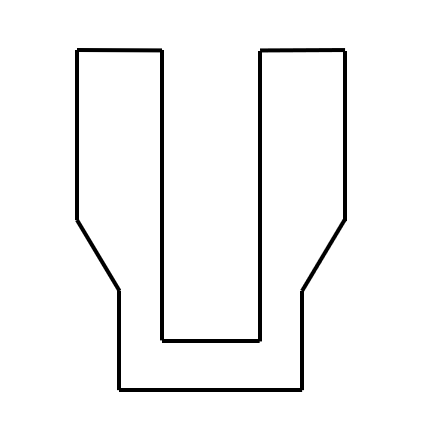nrfp: (102, 31, 314, 403)
